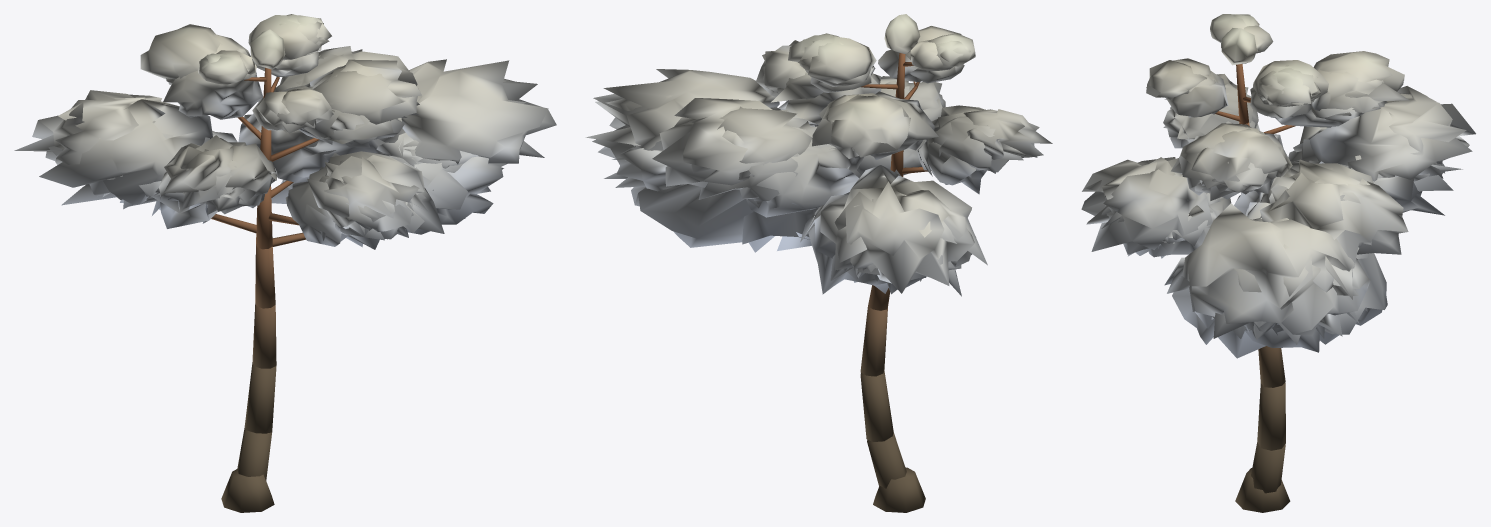
3 views of the same model, side by side, from view 1: azimuth 30°, elevation 25°; view 2: azimuth 150°, elevation 25°; view 3: azimuth 270°, elevation 25° (orthographic).
Visible parts, largest first — view 1: crown, trunk1, trunk2; view 2: crown, trunk1, trunk2; view 3: crown, trunk1, trunk2.
Part boxes in pixels (x1=…): crown: x1=14, y1=14, x2=556, y2=249; trunk1: x1=221, y1=303, x2=276, y2=512; trunk2: x1=211, y1=67, x2=319, y2=308; crown: x1=585, y1=14, x2=1052, y2=296; trunk1: x1=860, y1=306, x2=925, y2=512; trunk2: x1=861, y1=53, x2=931, y2=310; crown: x1=1081, y1=14, x2=1475, y2=358; trunk1: x1=1235, y1=346, x2=1290, y2=512; trunk2: x1=1215, y1=64, x2=1295, y2=133.
Size of the model in its own units: 15.7 by 16.07 by 11.97.
